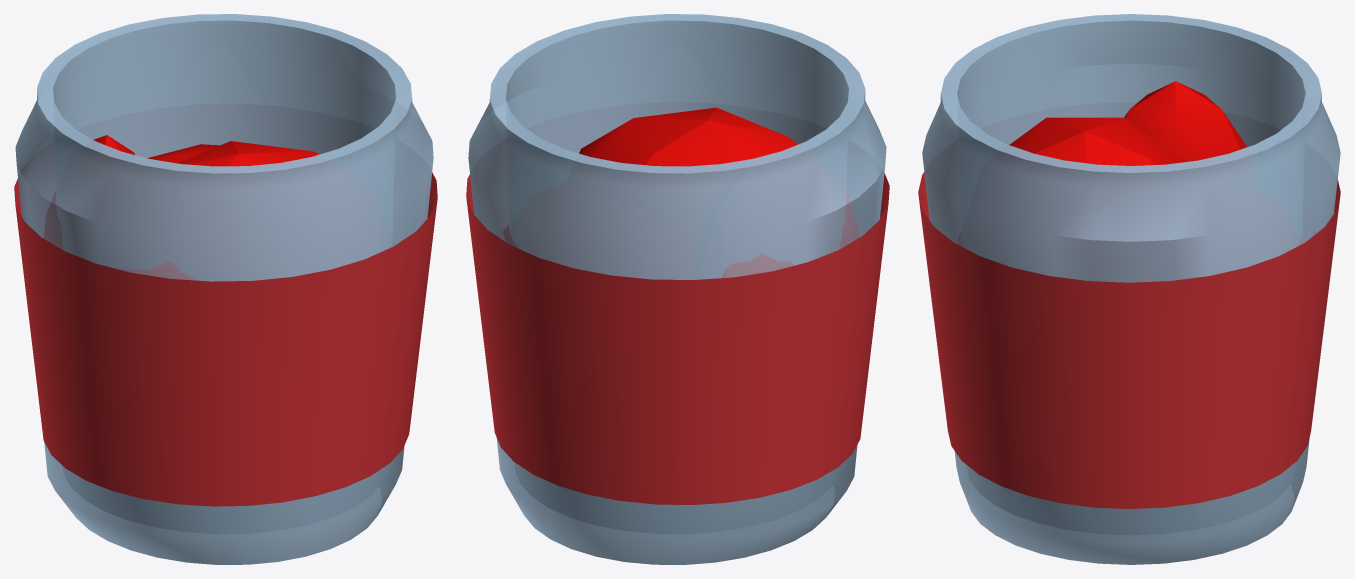
The model's file is marmelade.fbx.
3 renders of one model, left to right at view 1: azimuth 30°, elevation 25°; view 2: azimuth 150°, elevation 25°; view 3: azimuth 270°, elevation 25°, orthographic.
Parts seen in each view (by area): view 1: jam glas, ettiket, jam; view 2: jam glas, ettiket, jam; view 3: jam glas, ettiket, jam.
Boxes of the visible parts, left/top/right/bottom form: jam glas: left=15, top=14, right=433, bottom=564; ettiket: left=14, top=172, right=437, bottom=506; jam: left=44, top=135, right=393, bottom=279; jam glas: left=468, top=14, right=886, bottom=564; ettiket: left=466, top=173, right=889, bottom=504; jam: left=503, top=107, right=859, bottom=277; jam glas: left=922, top=14, right=1340, bottom=564; ettiket: left=918, top=172, right=1340, bottom=508; jam: left=958, top=81, right=1302, bottom=245.
Bounding box in the file's own units: 518 × 542 × 512.
